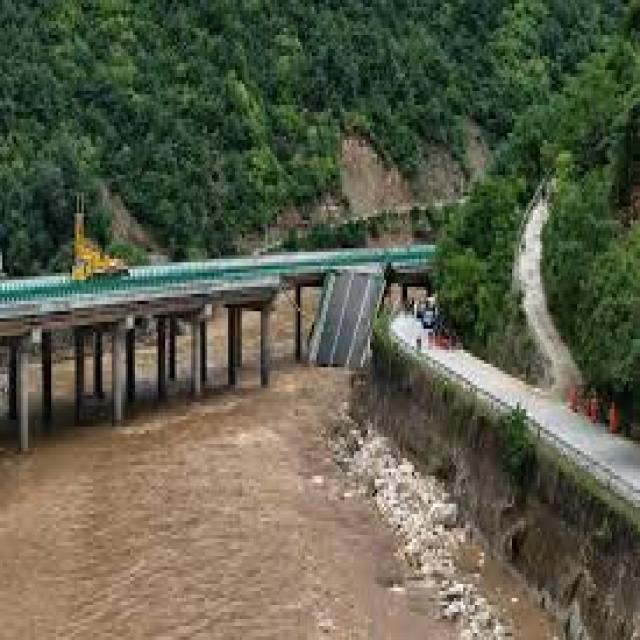bridge collapse: (171, 138, 575, 435)
